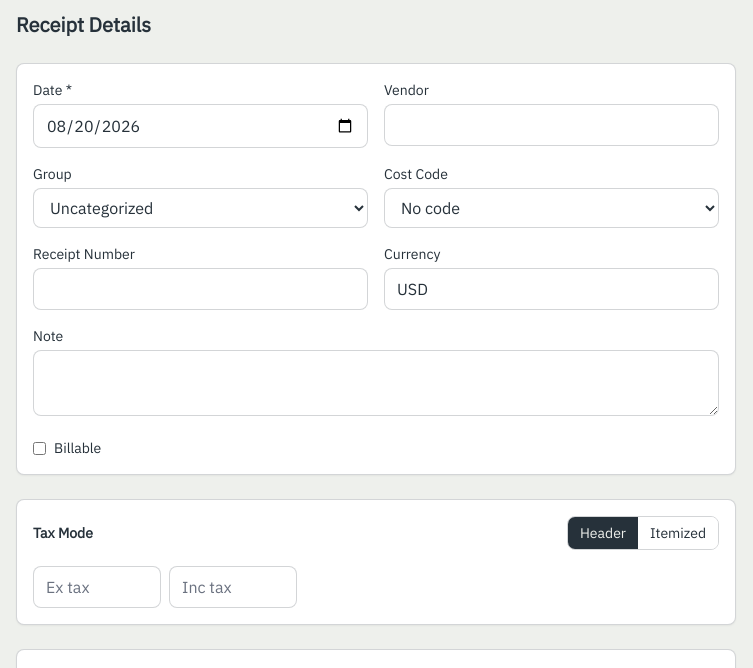
Test case: ReceiptForm › switching to itemized mode allows adding and removing line items
Check: the field labelled "Vendor" is shown, box [384,104,719,146]
Click the button "Itemized" at (678, 533), box [638,517,718,549]
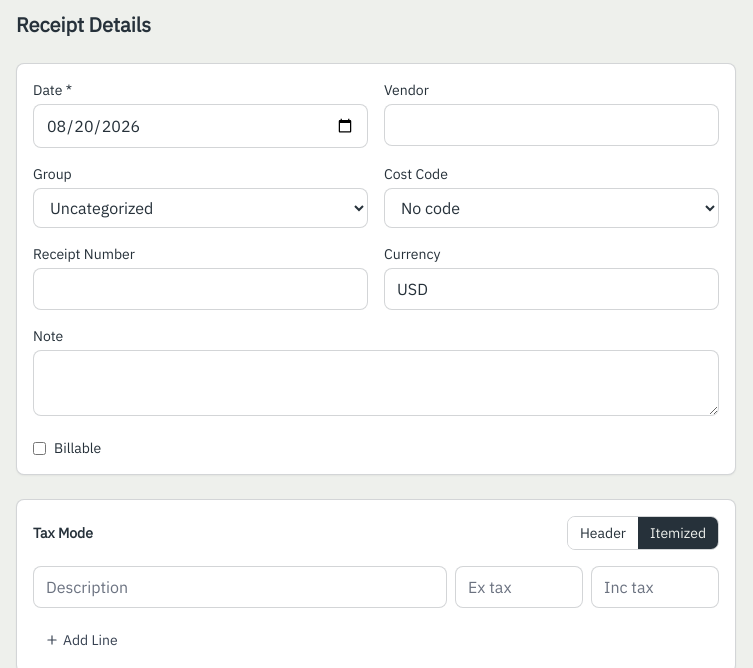
Click the button "Add Line" at (81, 640), box [33,624,130,656]
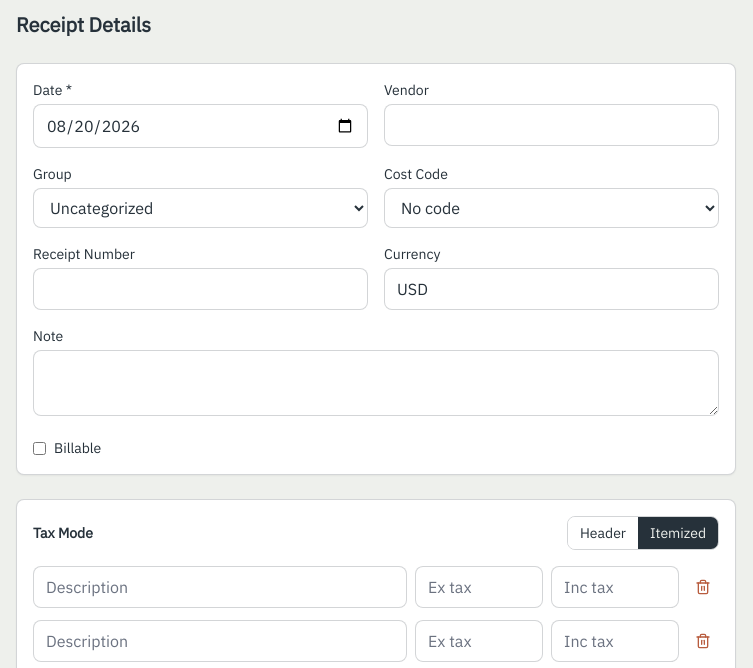
Check: the number of fields with placeholder "Description" is 2, box [33,566,407,608]; [33,620,407,662]
Click the 1st button named "Remove line" at (703, 587), box [687,571,719,603]
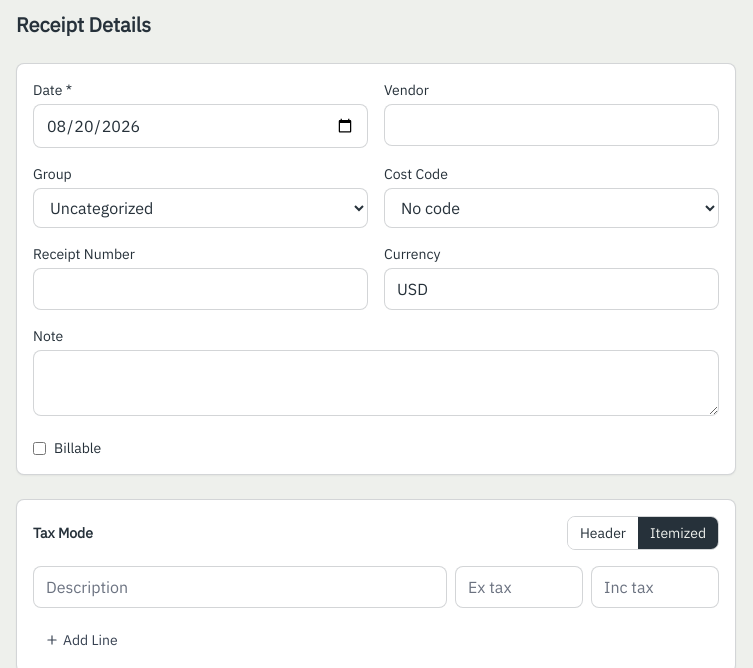
Check: the number of fields with placeholder "Description" is 1, box [33,566,447,608]
